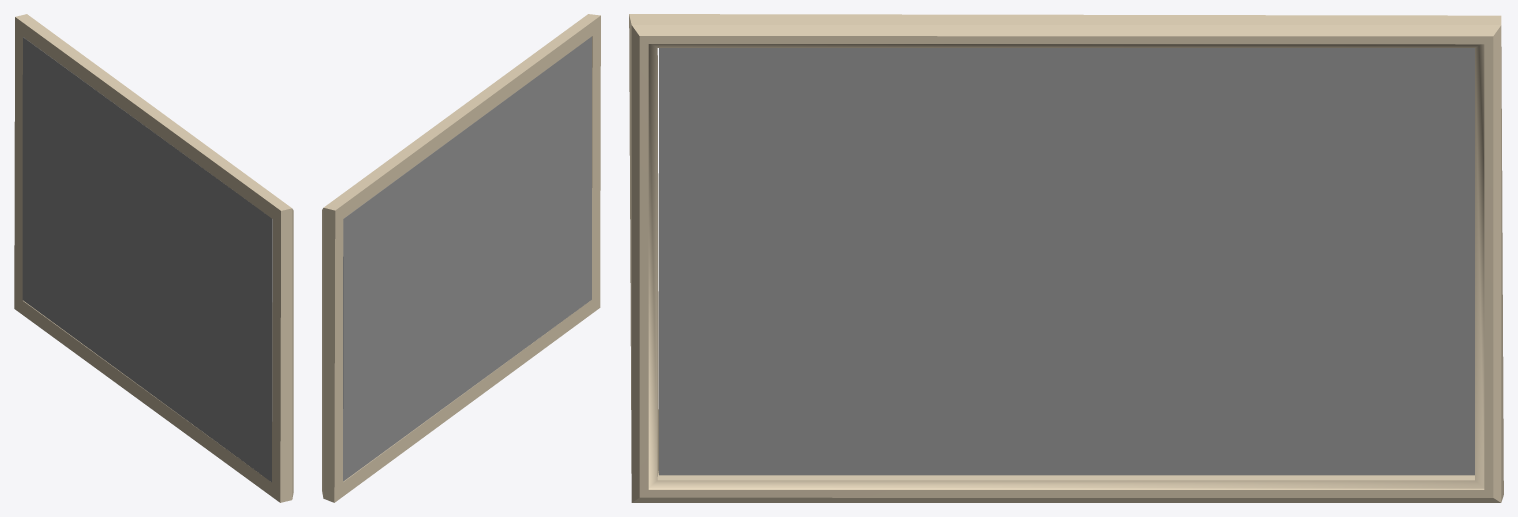
Rendered from Painting.fbx.
3 views of the same model, side by side, from view 1: azimuth 30°, elevation 25°; view 2: azimuth 150°, elevation 25°; view 3: azimuth 270°, elevation 25° (orthographic). The views are drawn at different scales.
Visible parts, largest first — view 1: pCube433; view 2: pCube433; view 3: pCube433.
Part boxes in pixels (x1,y1,x2,y2): pCube433: [14, 14, 293, 502]; pCube433: [322, 14, 600, 502]; pCube433: [629, 14, 1503, 502].
Size of the model in its own units: 10.4 by 183 by 302.
